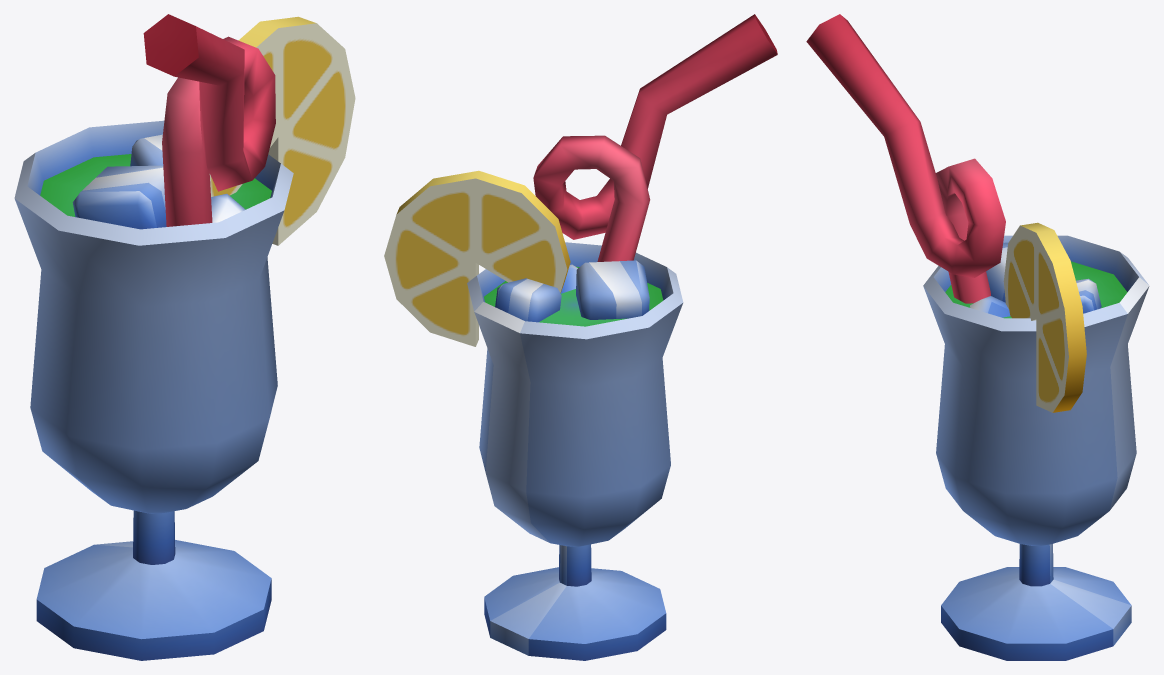
The model's file is m_Cocktail14.fbx.
The picture shows the model from 3 angles, left to right: view 1: azimuth 30°, elevation 25°; view 2: azimuth 150°, elevation 25°; view 3: azimuth 270°, elevation 25°; orthographic projection. The views are drawn at different scales.
Parts seen in each view (by area): view 1: m_Cocktail14; view 2: m_Cocktail14; view 3: m_Cocktail14.
Boxes of the visible parts, x1,y1,x2,y2 form: m_Cocktail14: (14, 14, 355, 660); m_Cocktail14: (384, 14, 777, 660); m_Cocktail14: (806, 14, 1149, 660).
Size of the model in its own units: 17.13 by 32.78 by 18.01.
